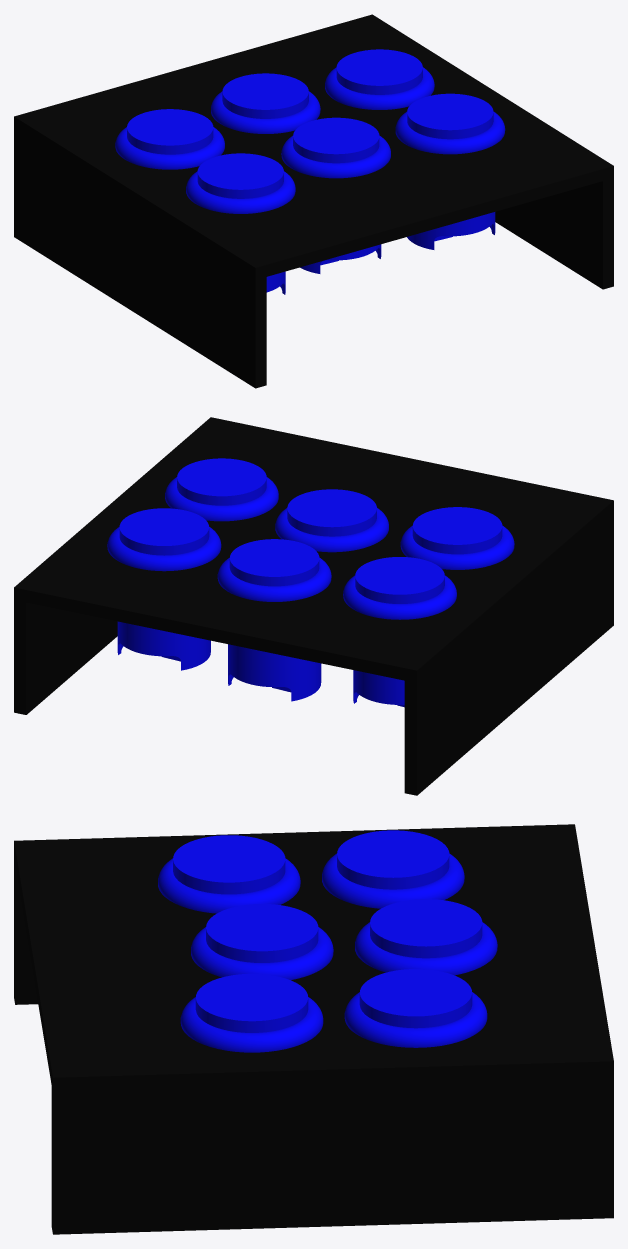
Rendered from OAColouredButtons.glb.
3 views of the same model, one above another, from view 1: azimuth 30°, elevation 25°; view 2: azimuth 150°, elevation 25°; view 3: azimuth 270°, elevation 25° (orthographic). The views are drawn at different scales.
Visible parts, largest first — view 1: Solid1 (×7); view 2: Solid1 (×7); view 3: Solid1 (×7).
Part boxes in pixels (left/top/right/bottom): Solid1 (×7): left=14, top=14, right=613, bottom=388; Solid1 (×7): left=14, top=417, right=613, bottom=795; Solid1 (×7): left=14, top=824, right=613, bottom=1234.
Bounding box in the file's own units: 0.1387 × 0.0464 × 0.1387.
